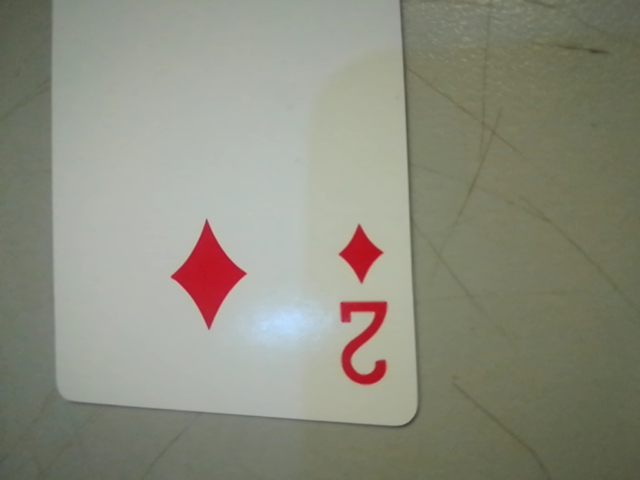fk 2: (323, 214, 408, 402)
